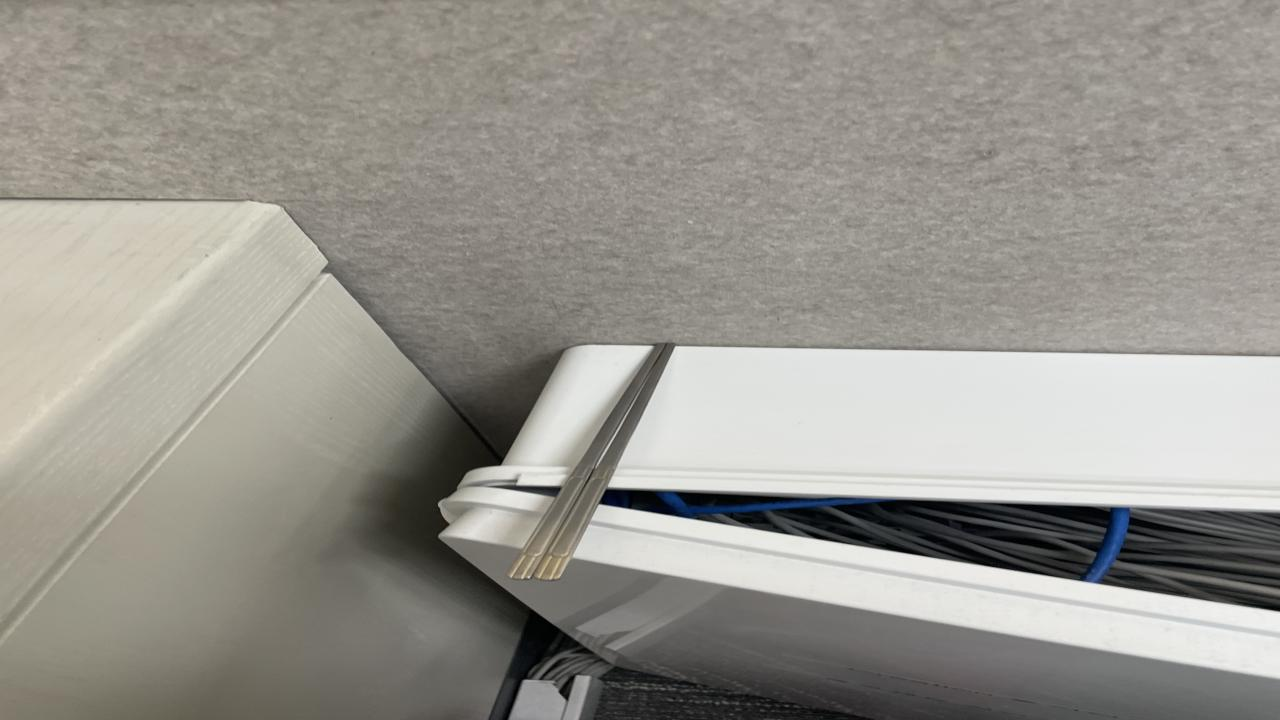chopstick: (498, 343, 680, 582)
